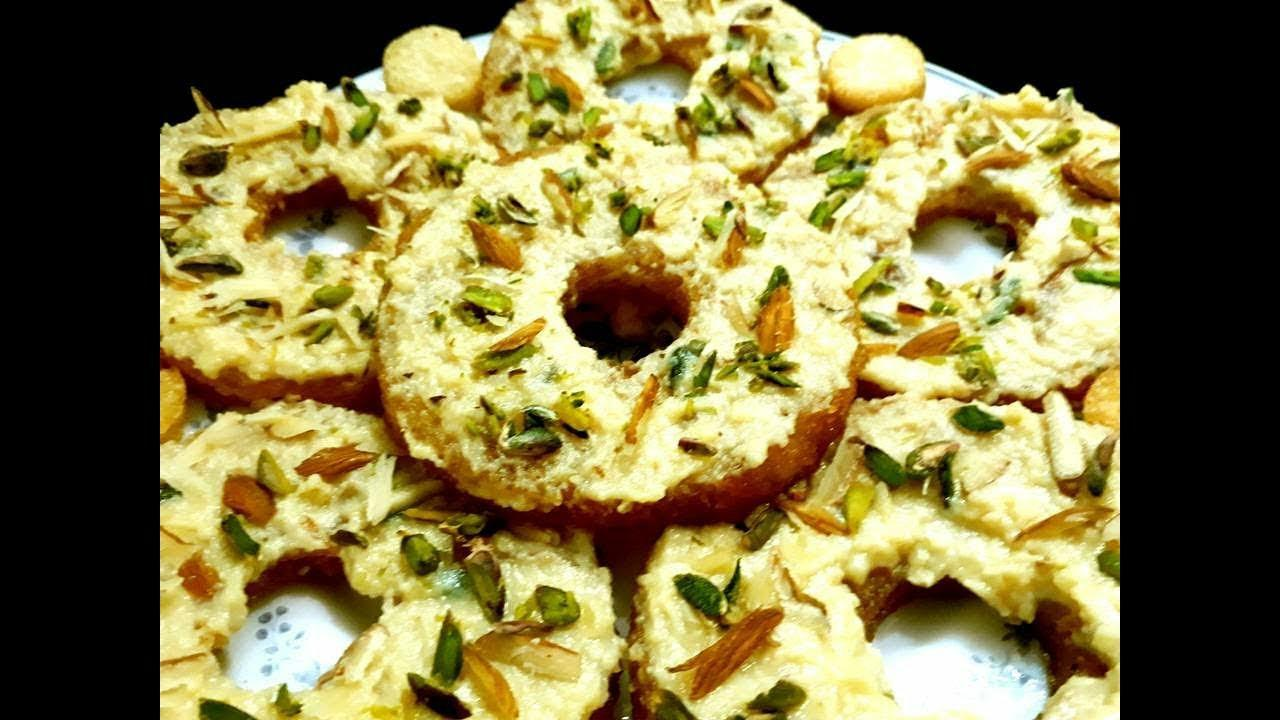Ghevar: (374, 127, 862, 522), (632, 388, 1123, 720), (161, 391, 619, 720), (767, 85, 1119, 400), (156, 78, 484, 407), (488, 0, 829, 162)
